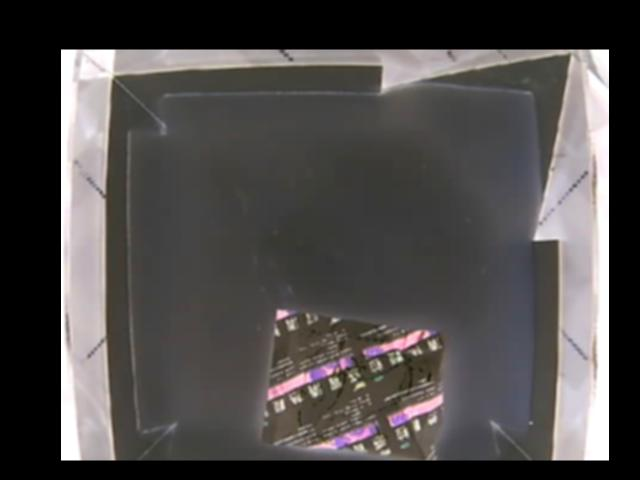Medicine: (260, 308, 448, 460)
